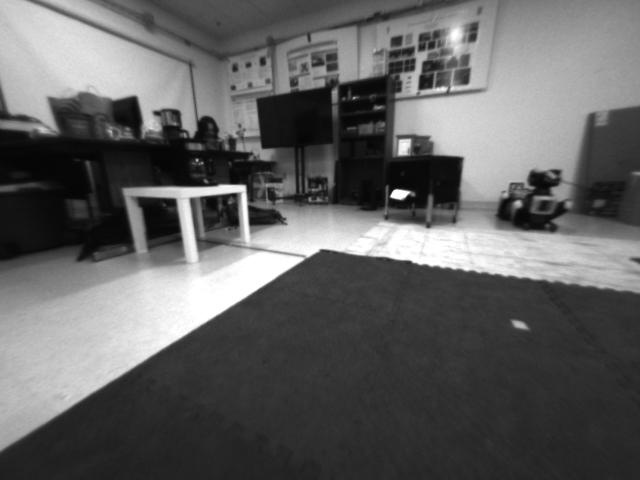coffee_pot: (174, 134, 218, 187)
